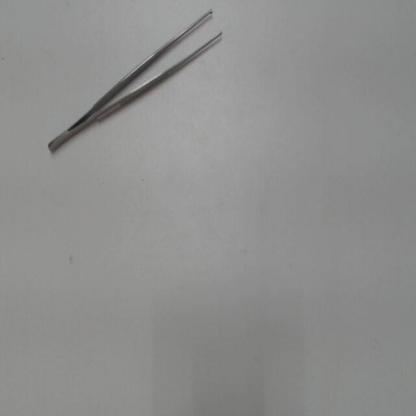Gillies Toothed Dissector: (44, 3, 224, 158)
